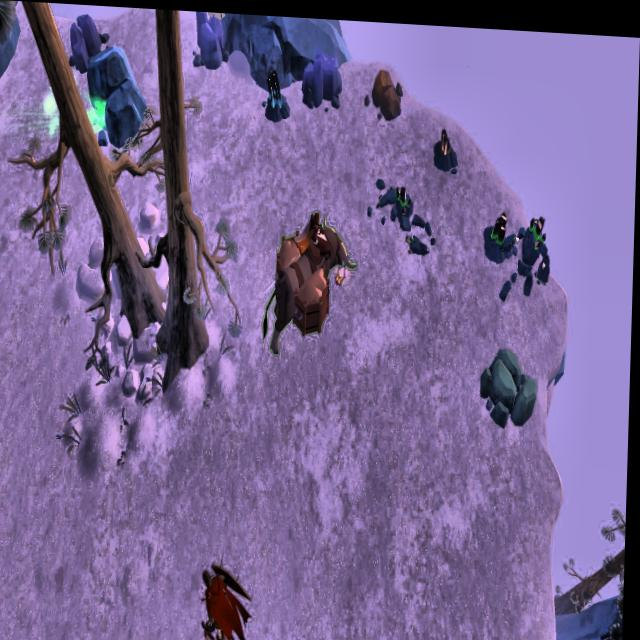enemy_factionUndead: (202, 559, 261, 640)
ore_t3: (492, 201, 512, 242)
ore_t4: (265, 64, 288, 109)
rock_t3: (481, 338, 541, 421)
rock_t4: (296, 49, 347, 108), (68, 3, 105, 69), (190, 9, 228, 65)
